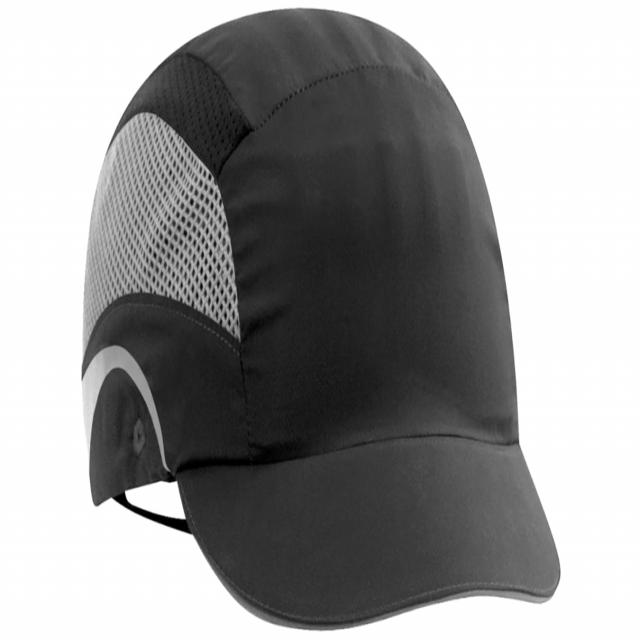Cap: (63, 14, 547, 640)
